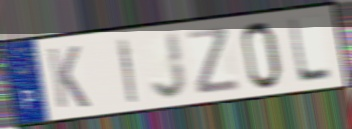0: (240, 19, 284, 90)
I: (116, 36, 139, 106)
J: (149, 29, 190, 101)
K: (45, 43, 92, 111)
L: (286, 16, 334, 85)
Z: (185, 25, 243, 97)
